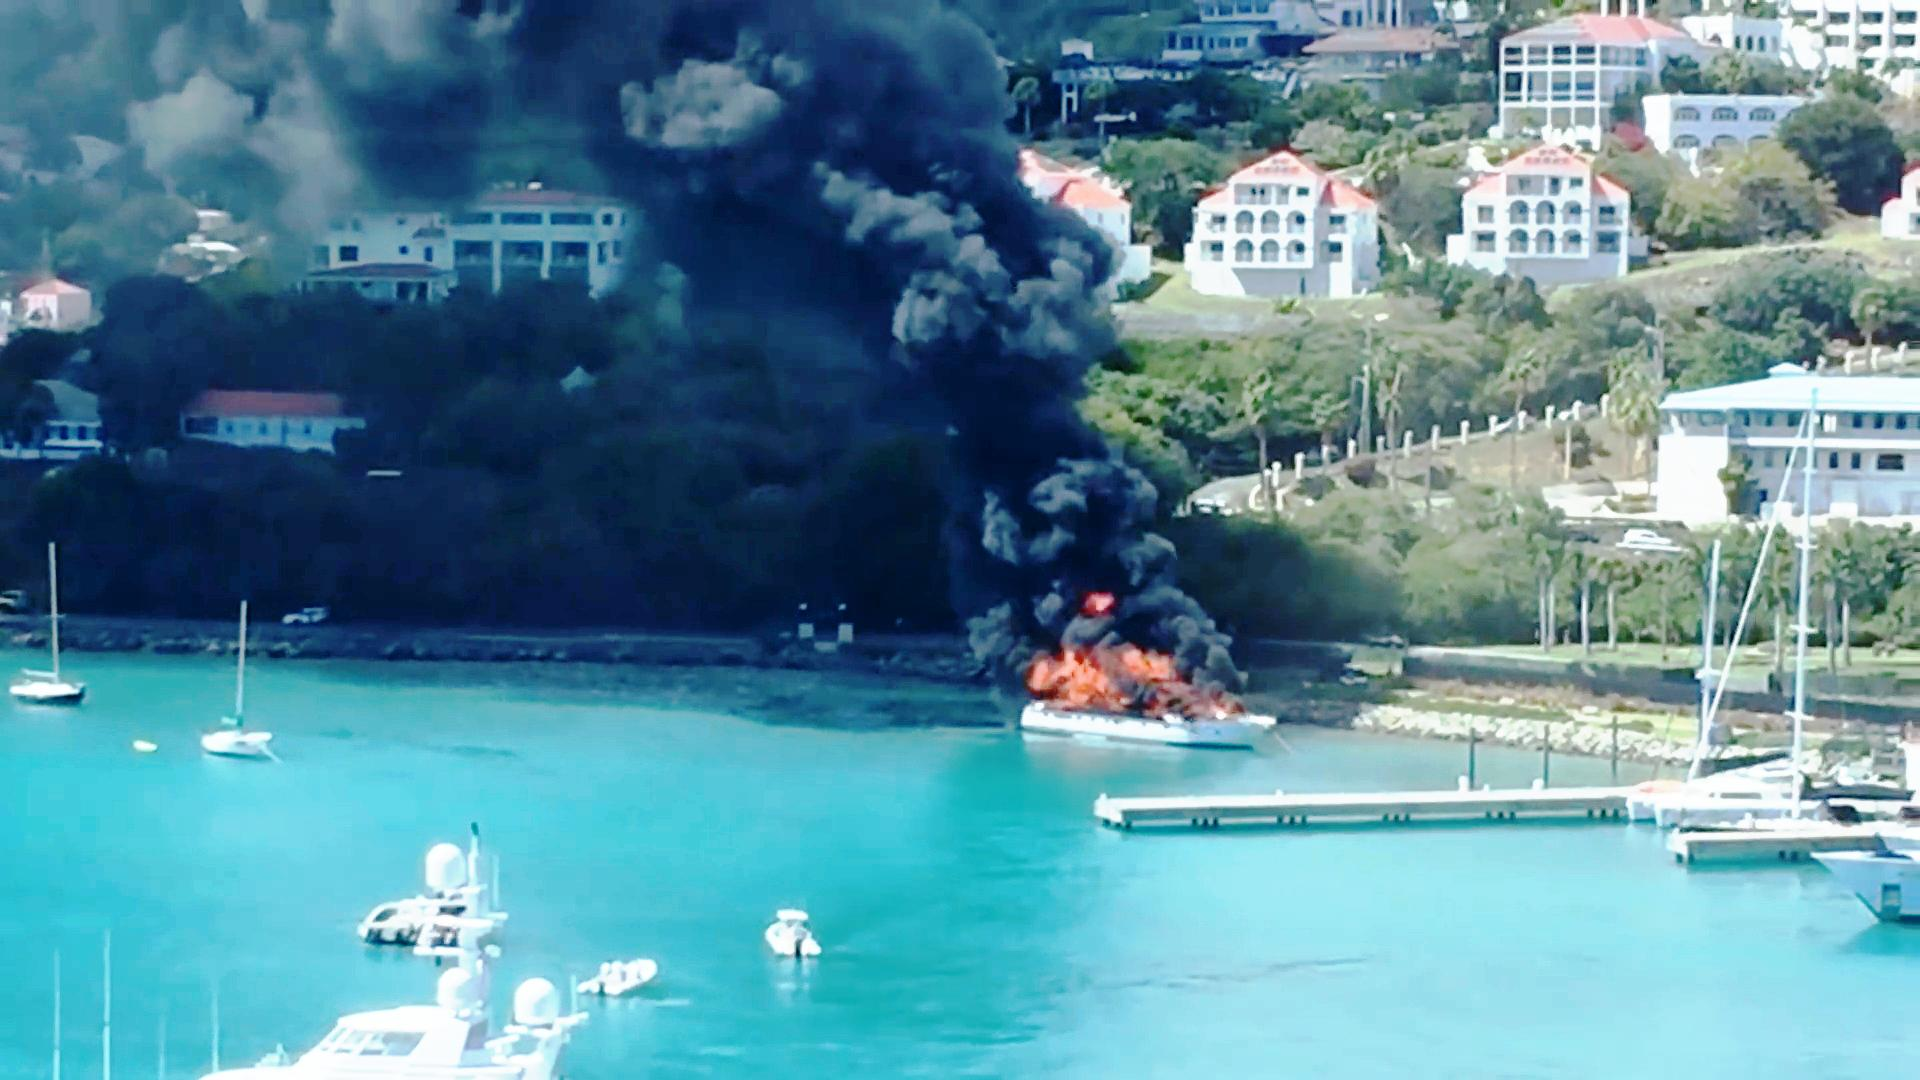fire: (1021, 633, 1209, 715)
smoke: (655, 22, 969, 243), (898, 190, 1106, 375)
